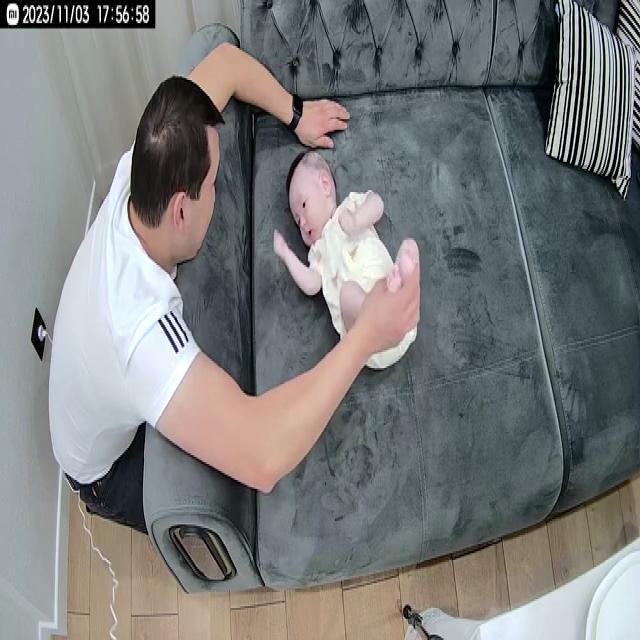baby: (272, 146, 422, 378)
